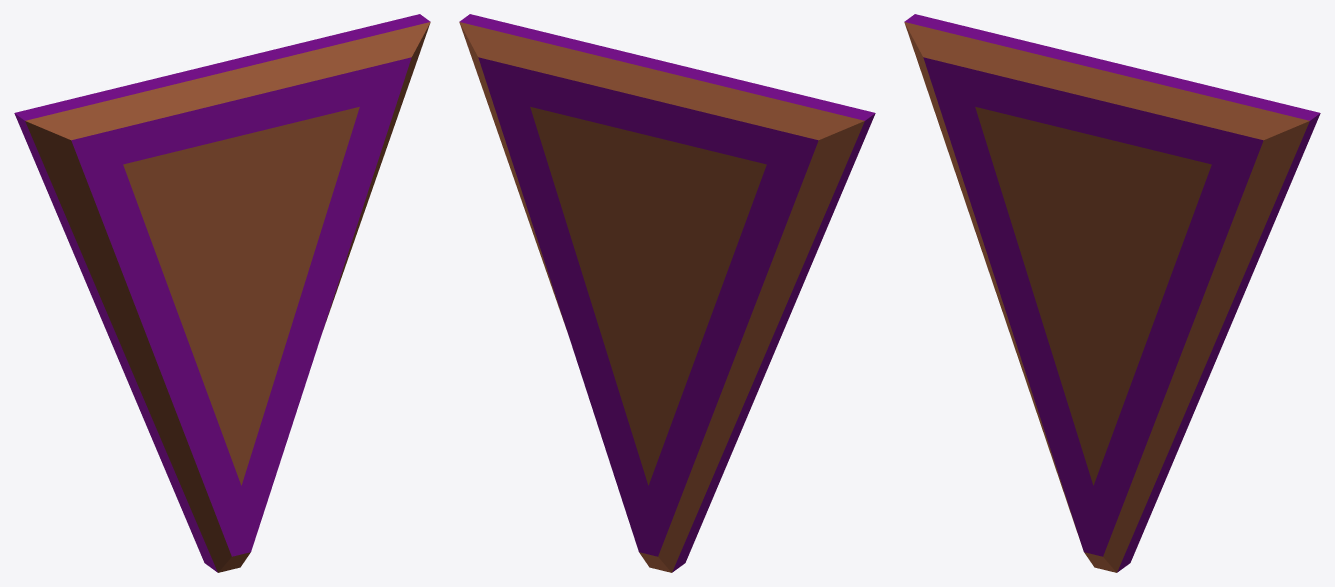
Rendered from ChestV2_Lock.glb.
3 renders of one model, left to right at view 1: azimuth 30°, elevation 25°; view 2: azimuth 150°, elevation 25°; view 3: azimuth 330°, elevation 25°, orthographic.
Visible parts, largest first — view 1: ChestV2_Lock; view 2: ChestV2_Lock; view 3: ChestV2_Lock.
Part boxes in pixels (x1,y1,x2,y2): ChestV2_Lock: (14, 14, 430, 572); ChestV2_Lock: (459, 14, 875, 572); ChestV2_Lock: (904, 14, 1320, 572).
Size of the model in its own units: 5.99 by 7.02 by 0.9721.
1 material, 1 textured.
